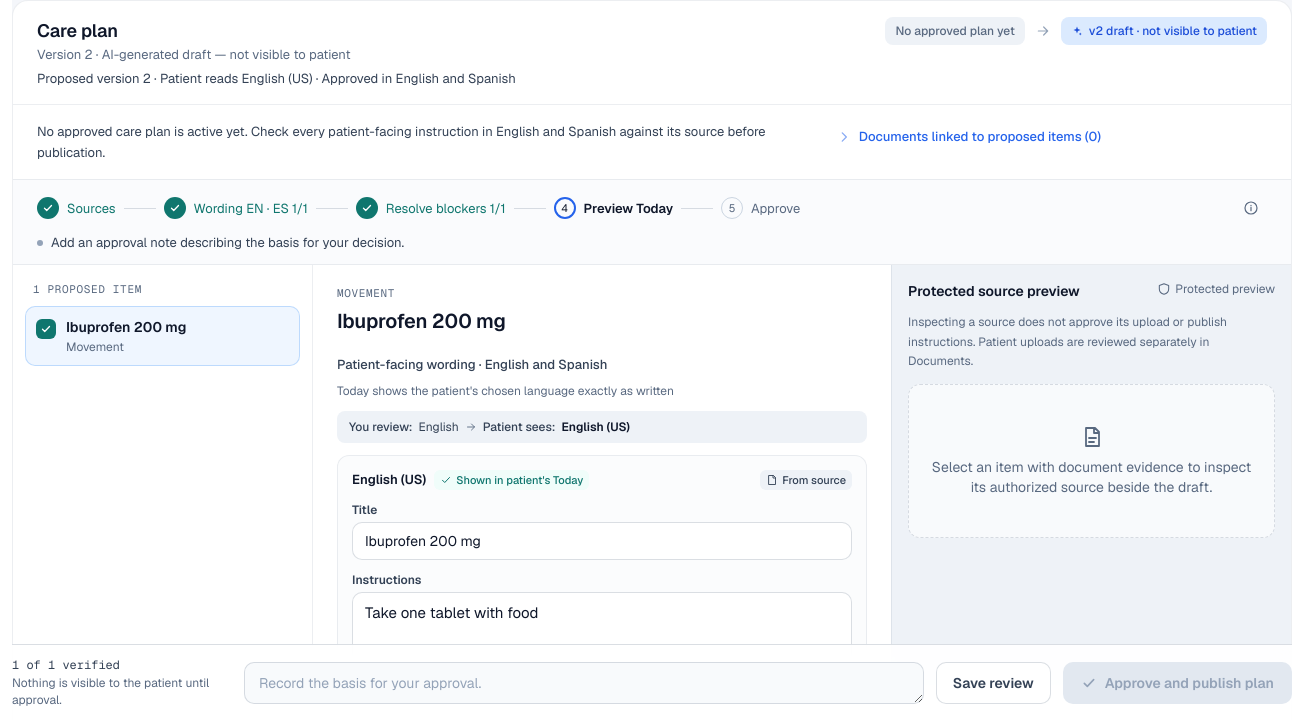
Test: cross-plan conflicts in the care-plan draft review › shows no conflict chrome when there is nothing to resolve, but never implies interactions were checked
In the text box with placeholder "Record the basis for your approval.": coordinates (584, 682) [244,662,924,704], type "Reviewed against sources"
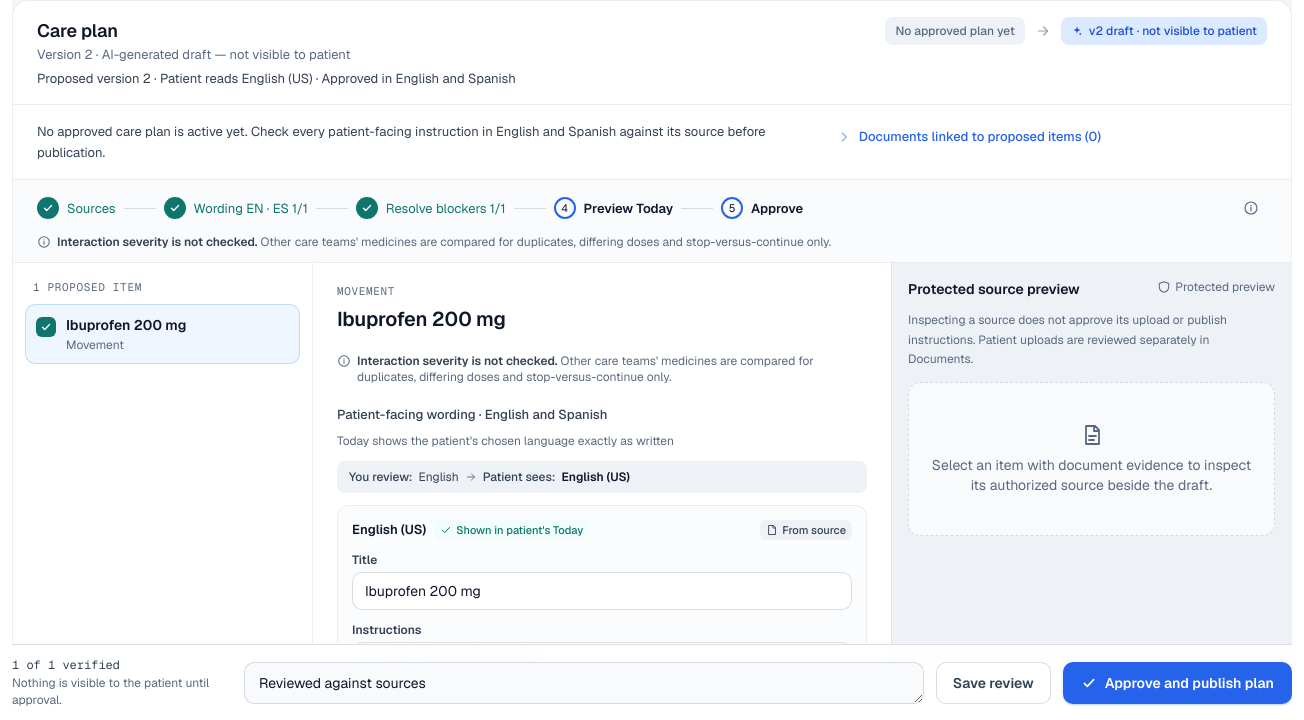
expect the button "Approve and publish plan" is enabled: met, box [1063,662,1292,704]
